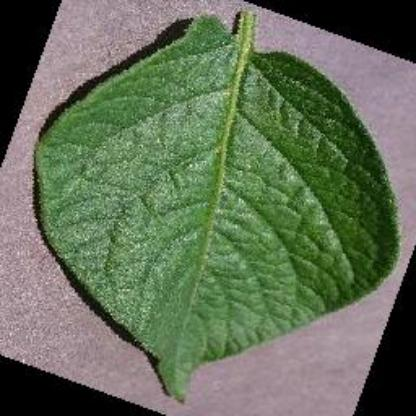Healthy-plant: (36, 8, 404, 408)
